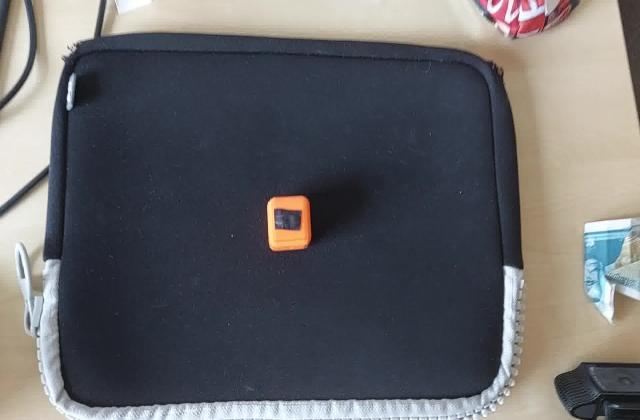black: (270, 208, 304, 234)
sticker: (264, 194, 314, 254)
